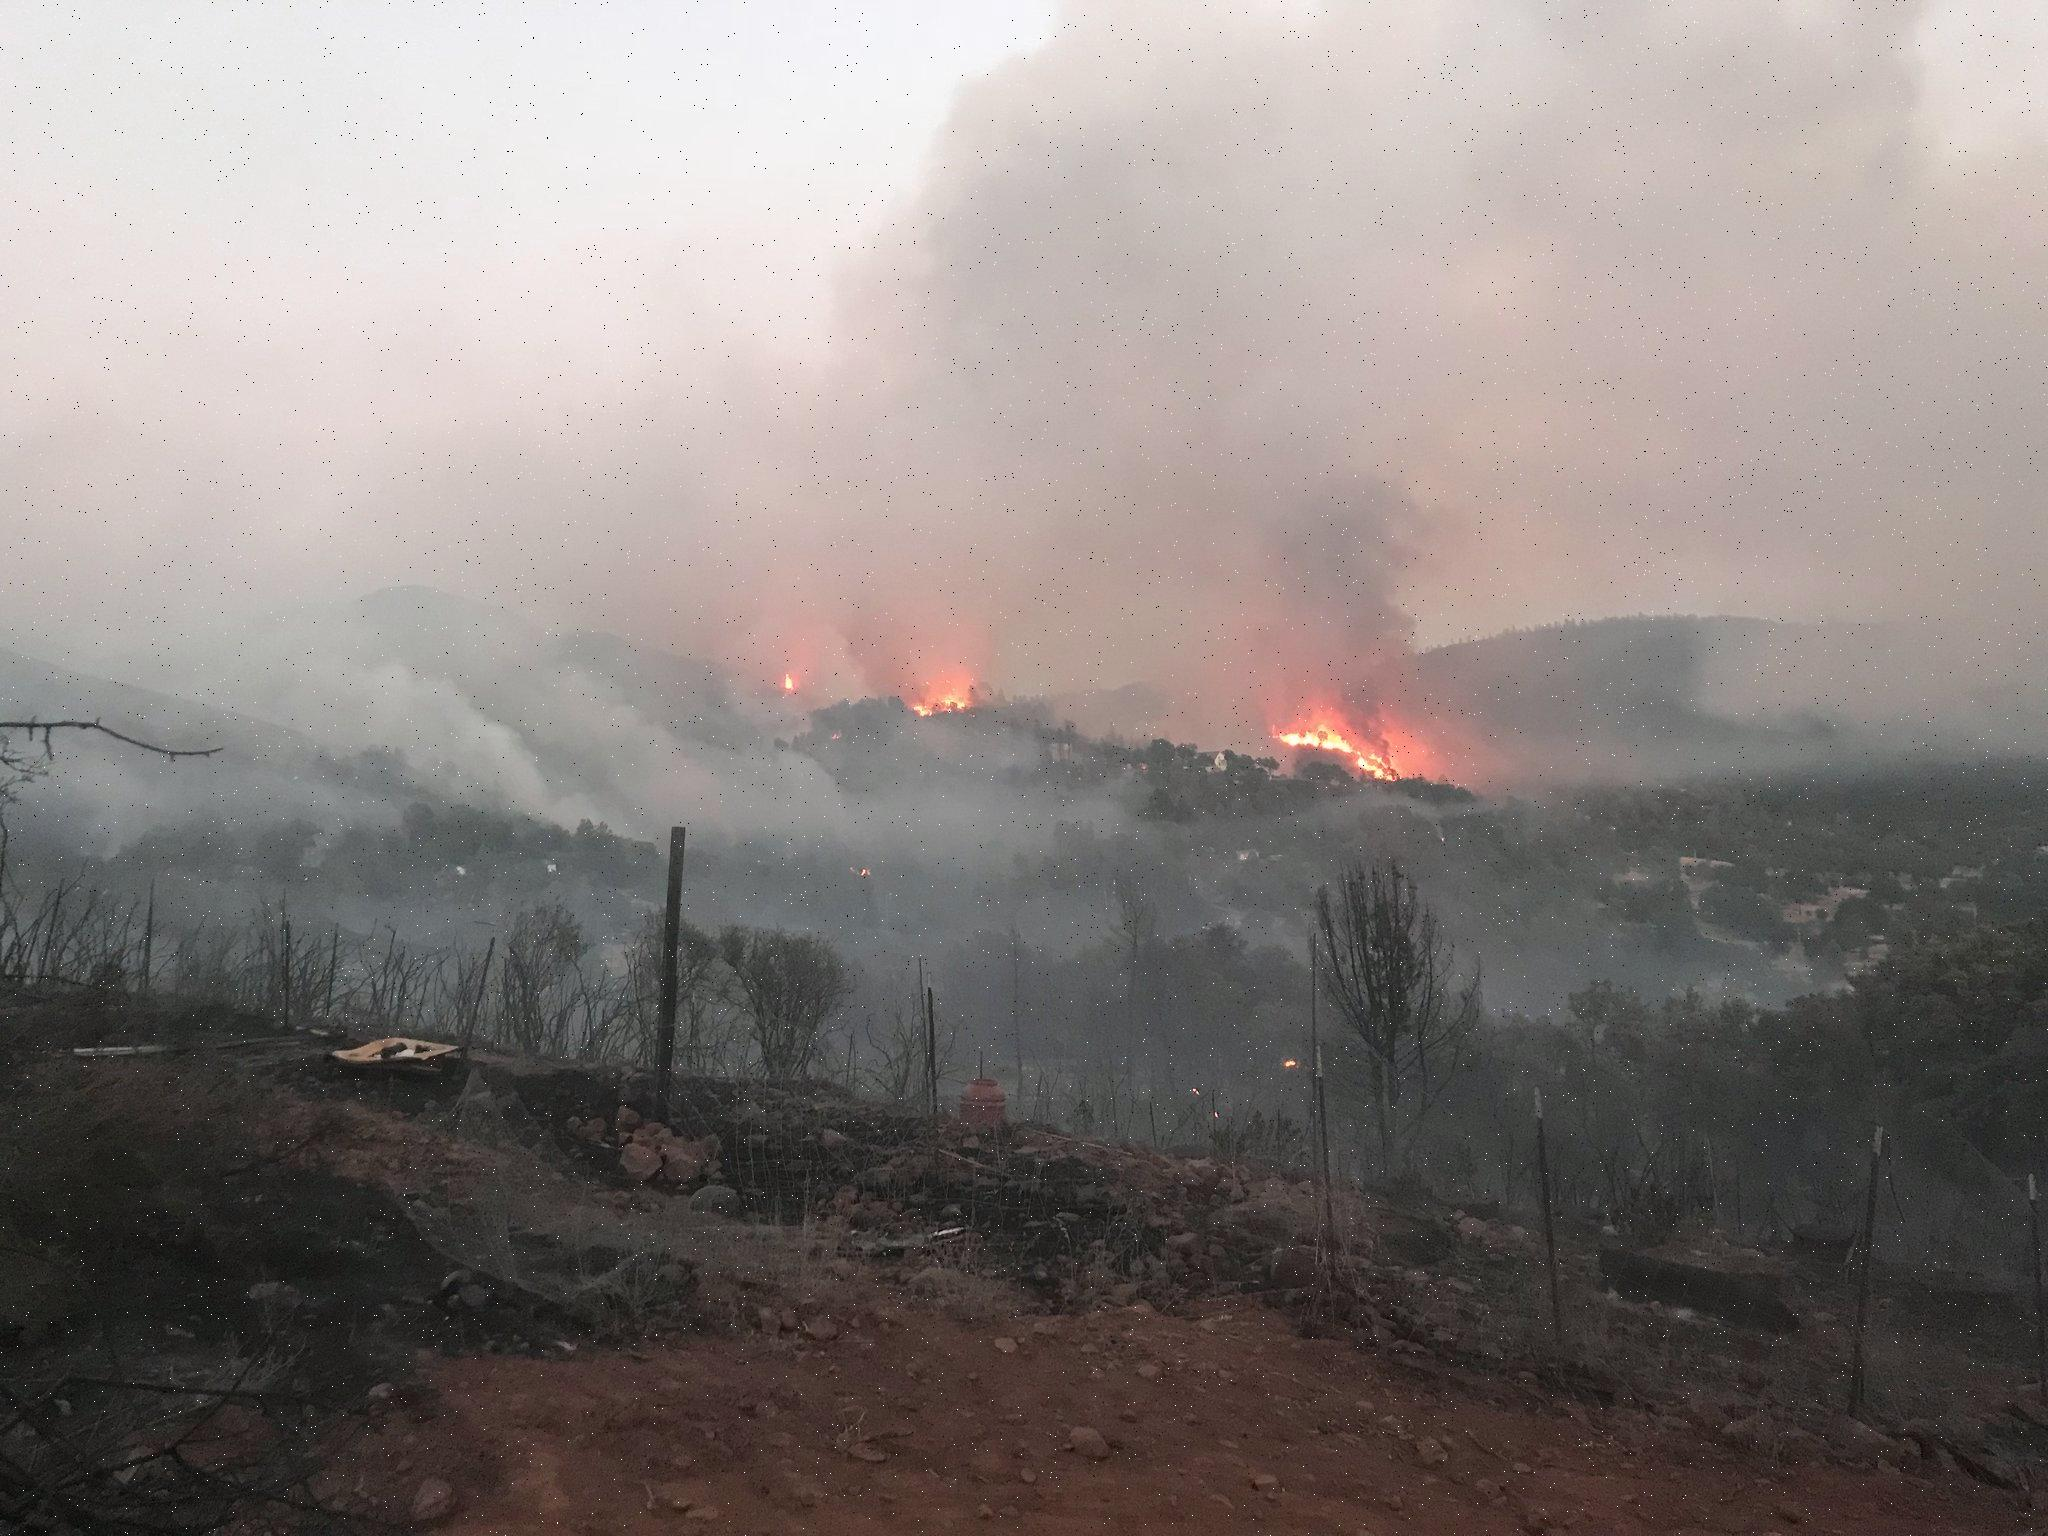fire: (739, 615, 1417, 808)
